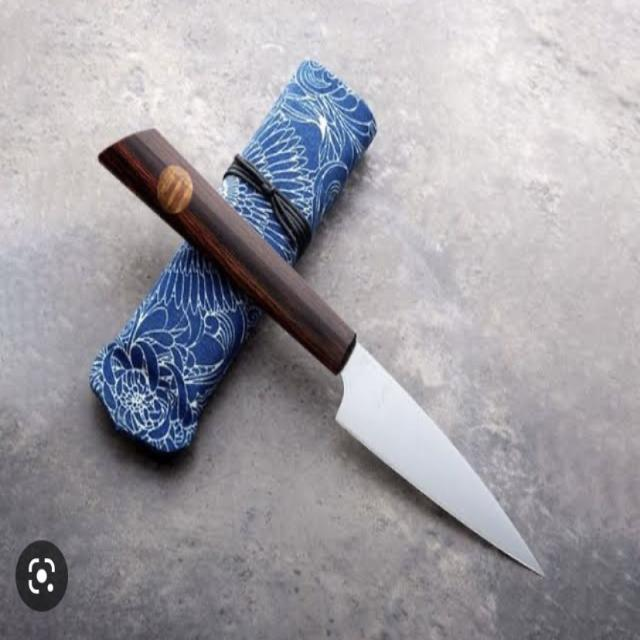Knife: (89, 108, 556, 580)
